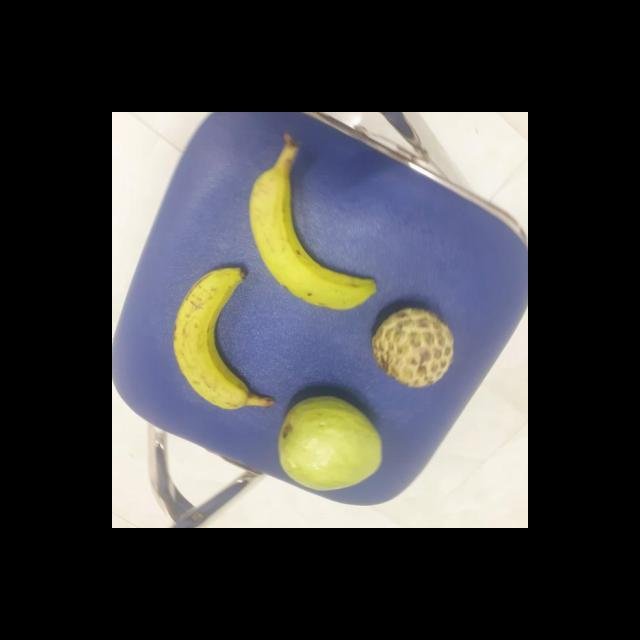Sakya fruit: (373, 306, 459, 387)
banana: (252, 154, 384, 308), (174, 270, 276, 409)
guava: (279, 394, 386, 493), (373, 304, 462, 390)
